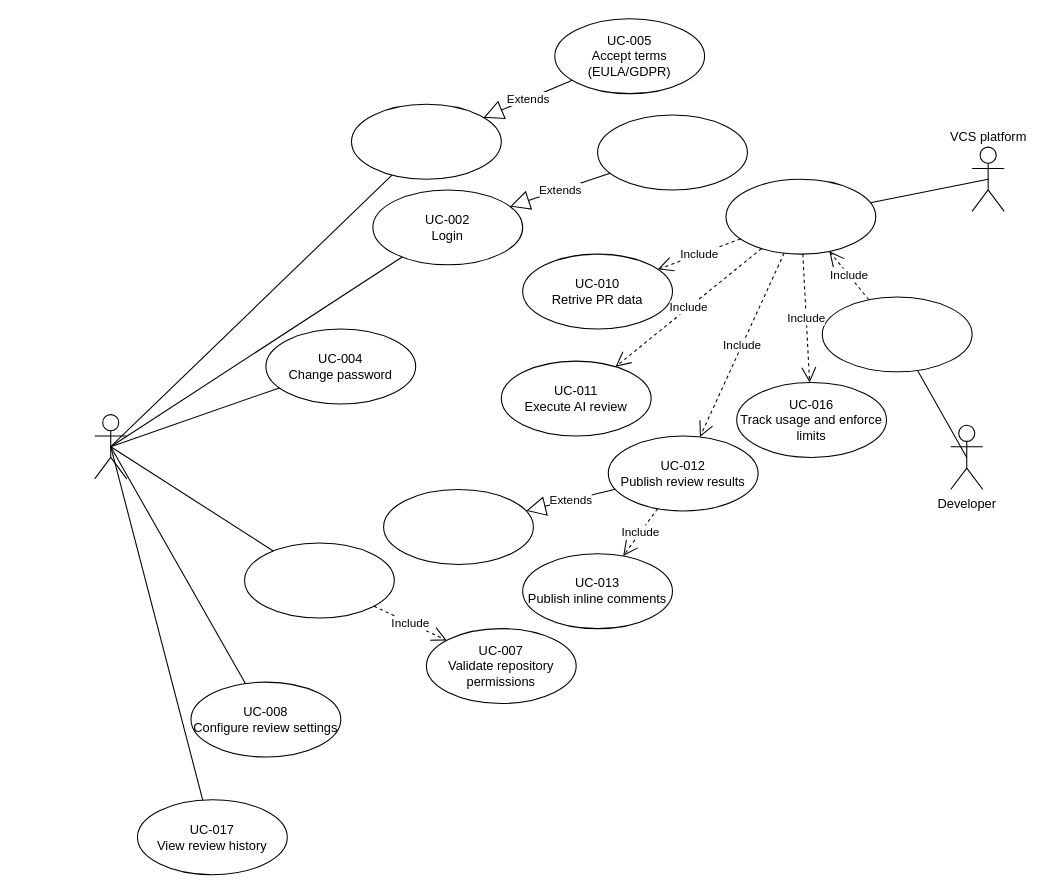
This 1044x893 diagram has some shape labels left out. The centre of each missing label's shape, as x and y in pixels:
Repository administrator: [110,446]
UC-001 Register account: [425,141]
UC-003 Social login: [672,152]
UC-006 Integrate repository: [318,580]
UC-009 Trigger review: [800,216]
UC-014 Publish status check: [458,526]
UC-015 Re-run review: [896,334]
